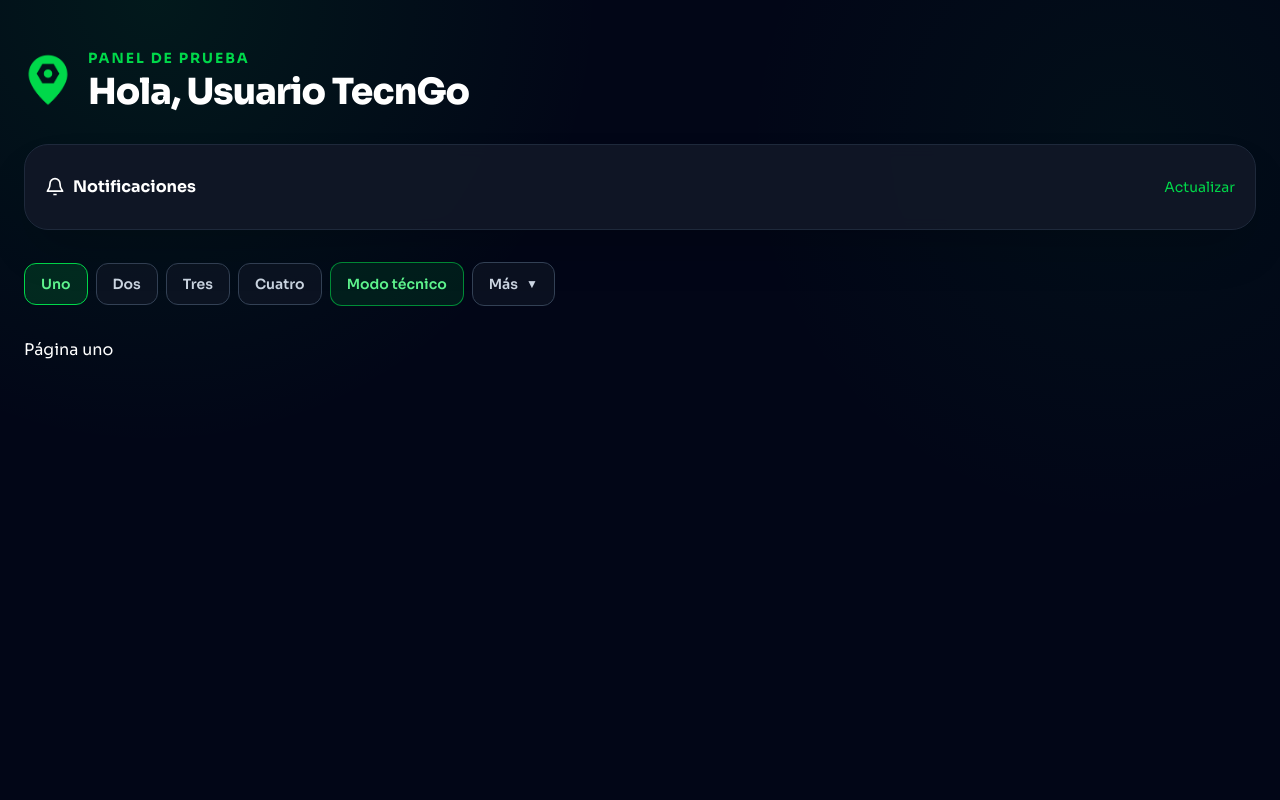
Test: RoleWorkspace › cierra con Escape y con clic fuera
The image size is (1280, 800).
Step 1. Click the button "Más ▼" → [513, 284], box [472, 262, 555, 306]
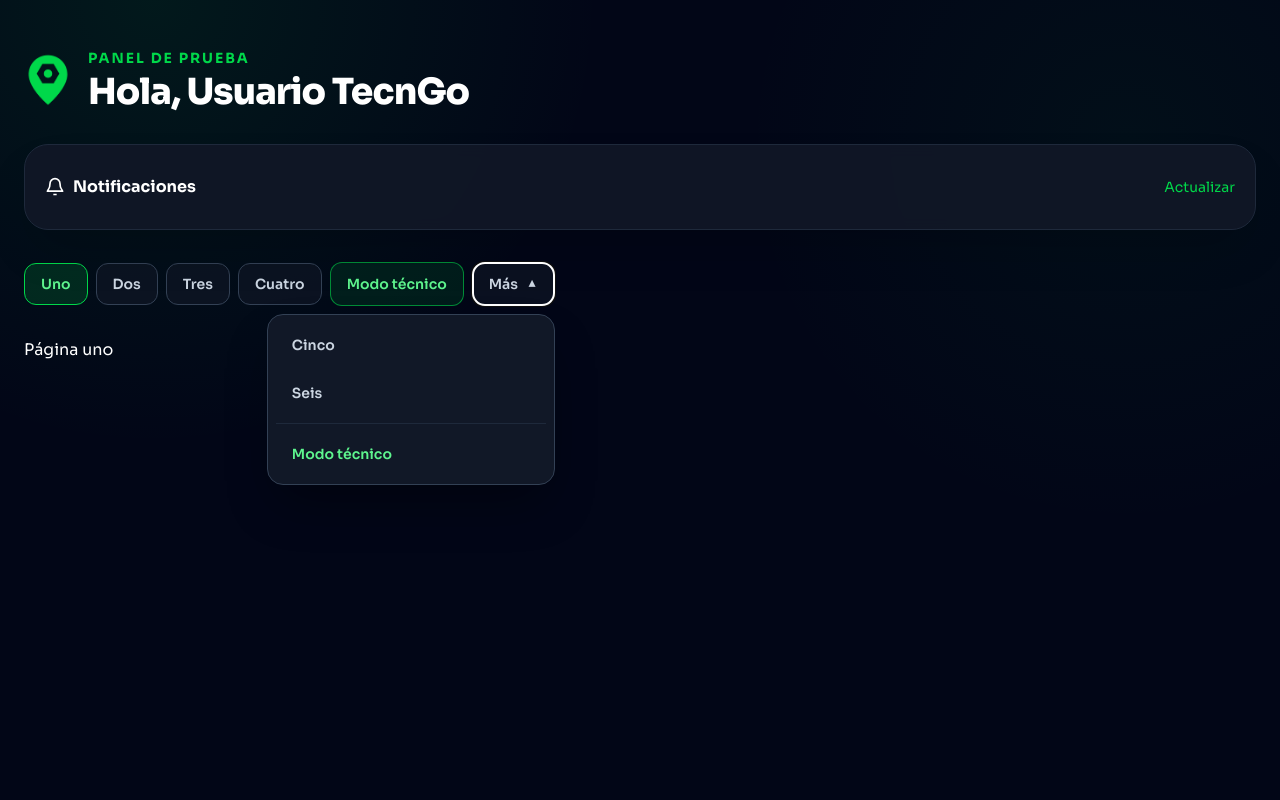
Step 2. Press Escape
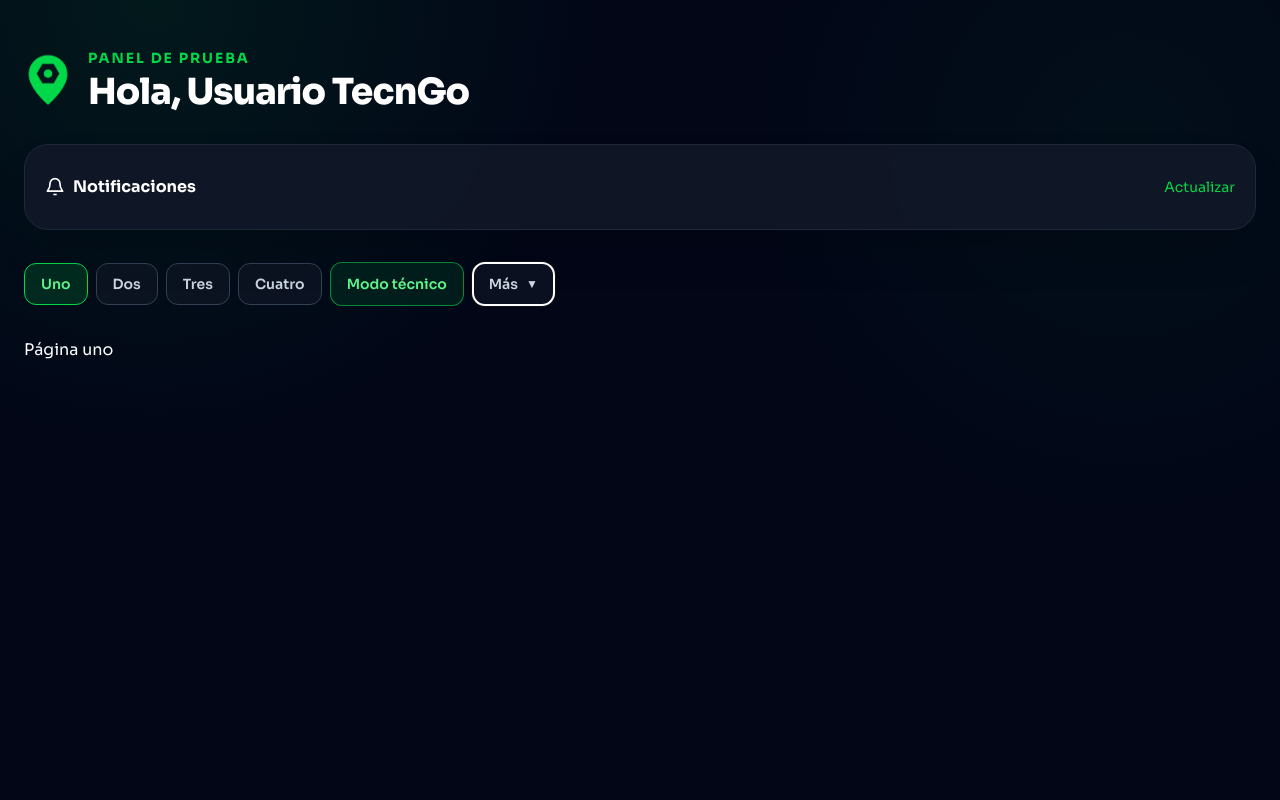
Expected: the menu is gone
Step 3. Click the button "Más ▼" → [513, 284], box [472, 262, 555, 306]
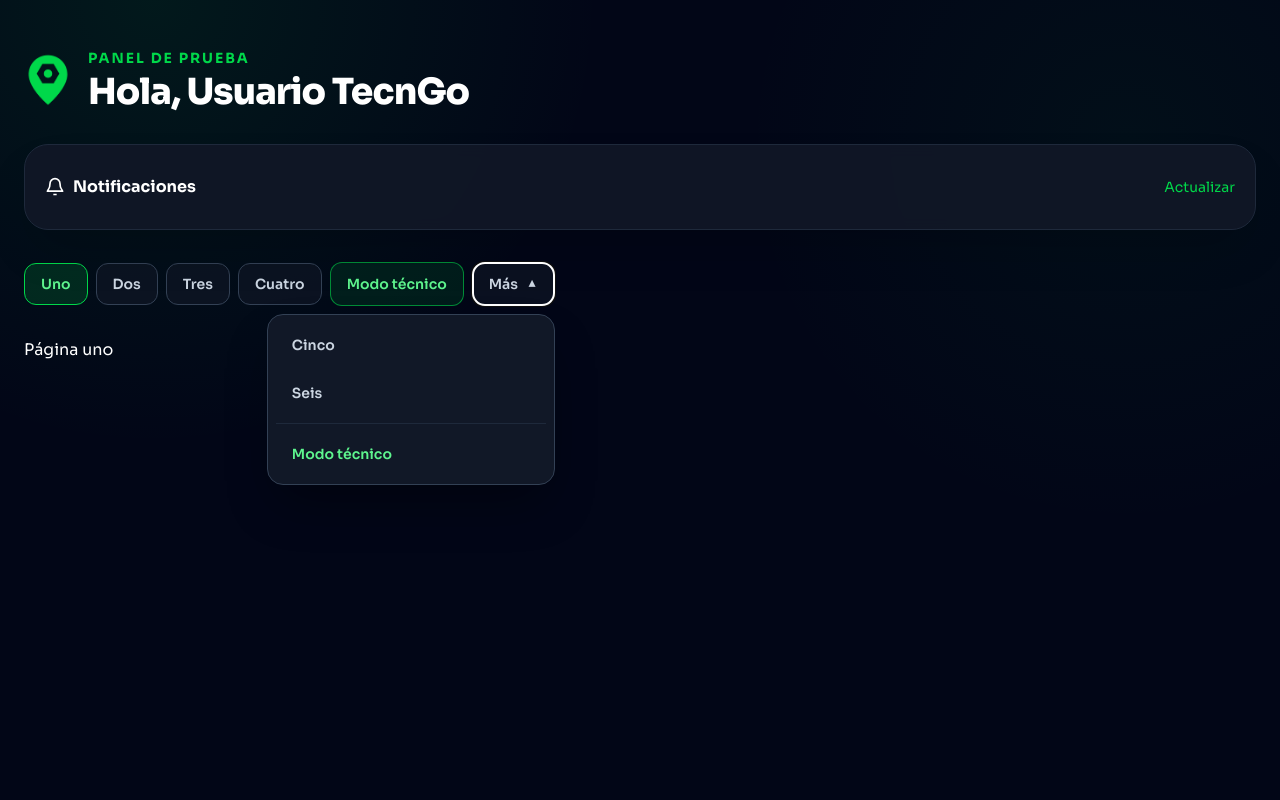
Step 4. Press the mouse on the element that starts with "Panel de prueba" → [640, 400], box [0, 0, 1279, 799]
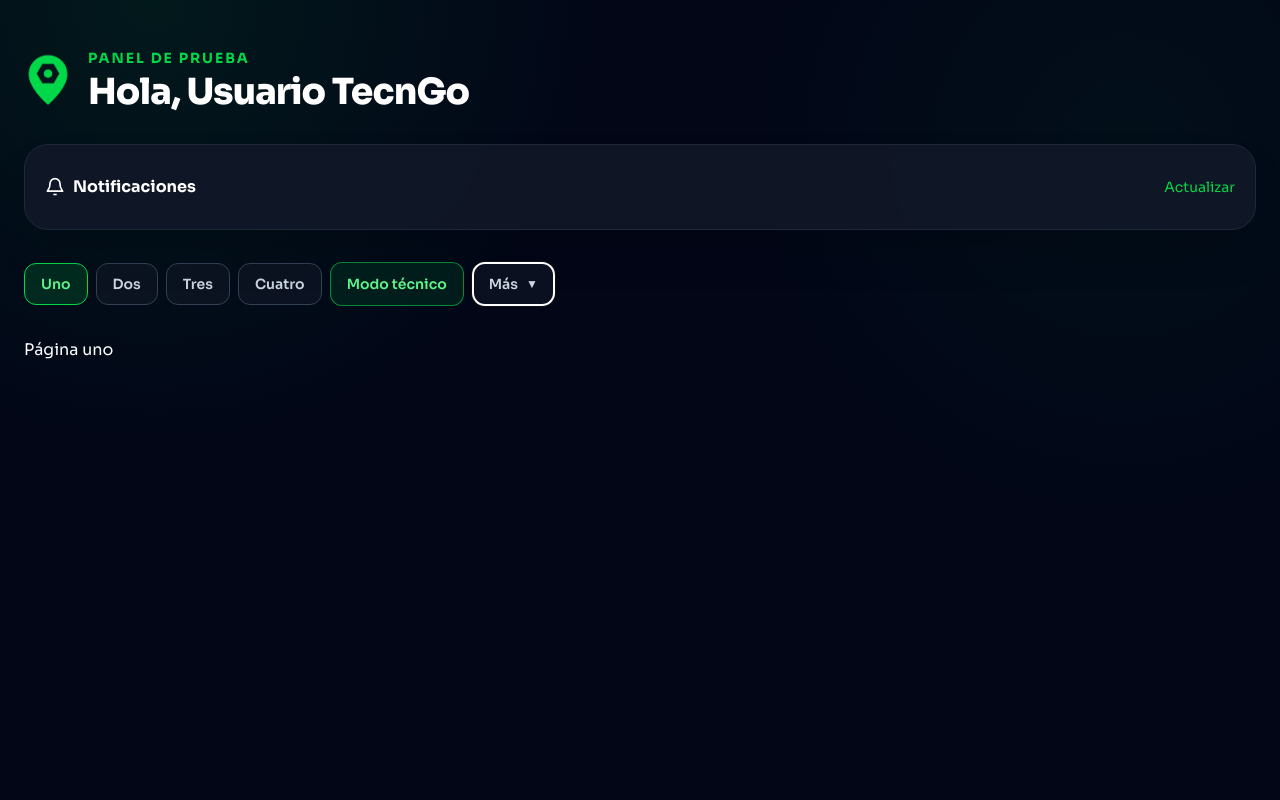
Expected: the menu is gone
